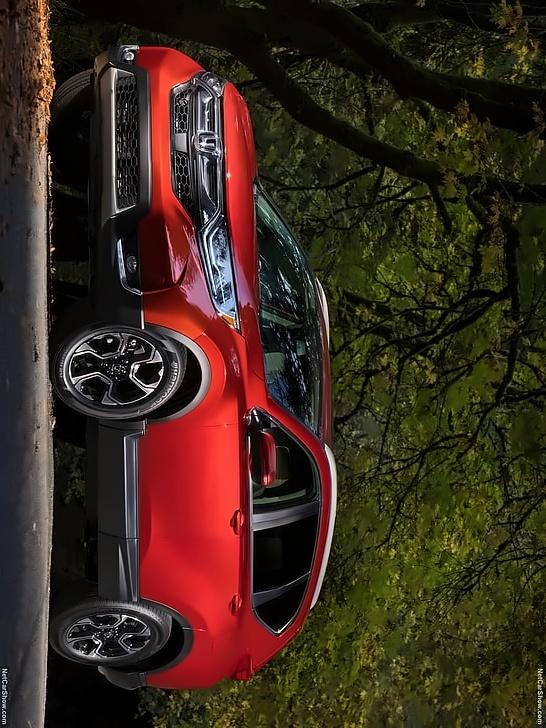Car hood: (217, 77, 265, 371)
Fender - -F-L-: (138, 291, 265, 435)
Fender - -R-L-: (98, 572, 308, 684)
Front bumper: (90, 41, 217, 337)
Headlight - -L-: (192, 212, 244, 330)
Passenger-s door - -F-L-: (113, 399, 346, 539)
Passenger-s door - -R-L-: (106, 525, 360, 634)
Rear light - -L-: (218, 639, 256, 688)
Side bumper - -L-: (82, 408, 157, 609)
Side mirror - -L-: (236, 406, 281, 491)
